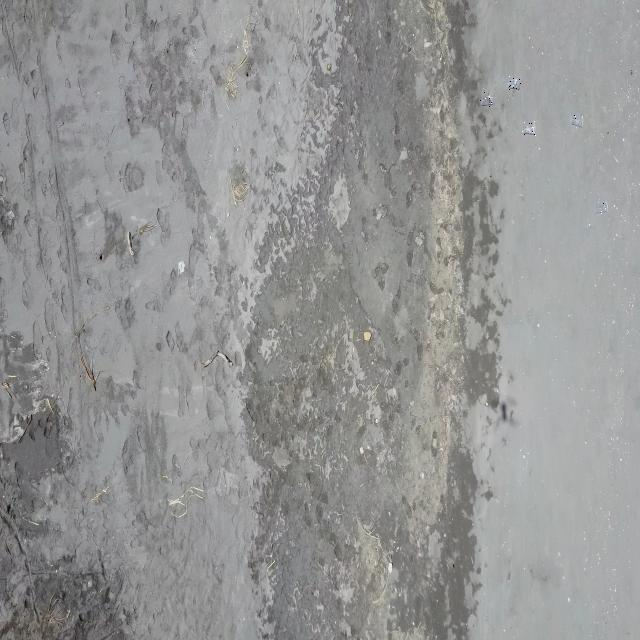takeaway-cup: (480, 92, 495, 107), (522, 121, 536, 137), (507, 76, 521, 91), (595, 201, 608, 215), (570, 115, 584, 127)
